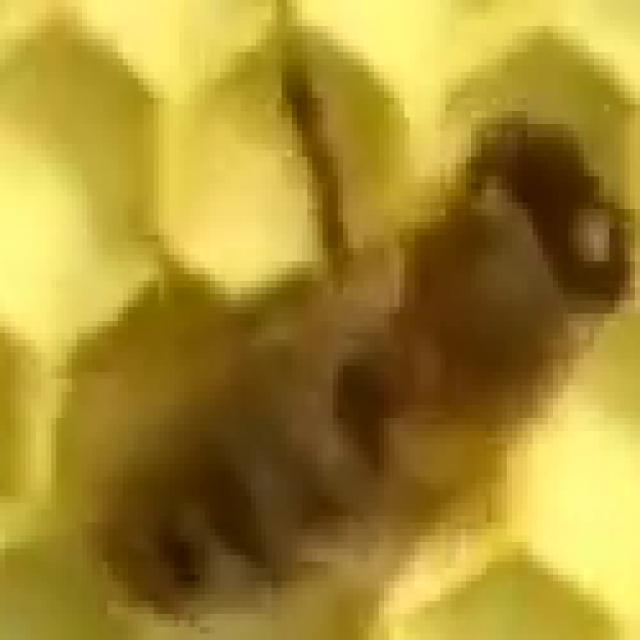honeybee: (68, 78, 624, 582)
